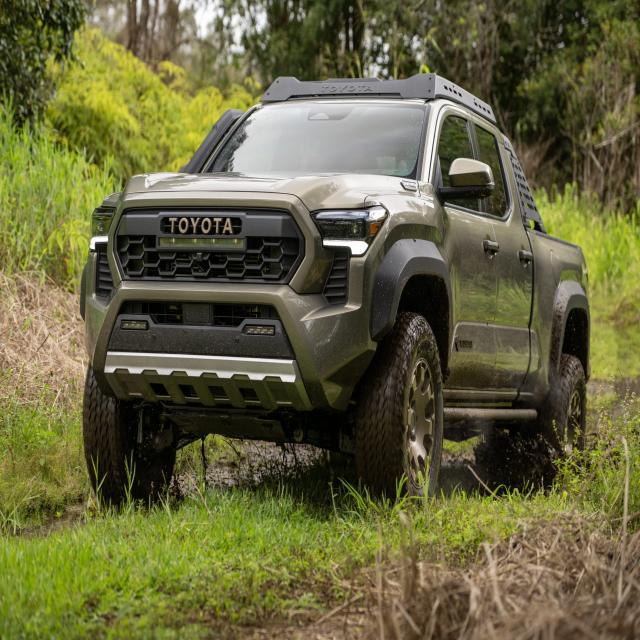person: (81, 76, 593, 508)
